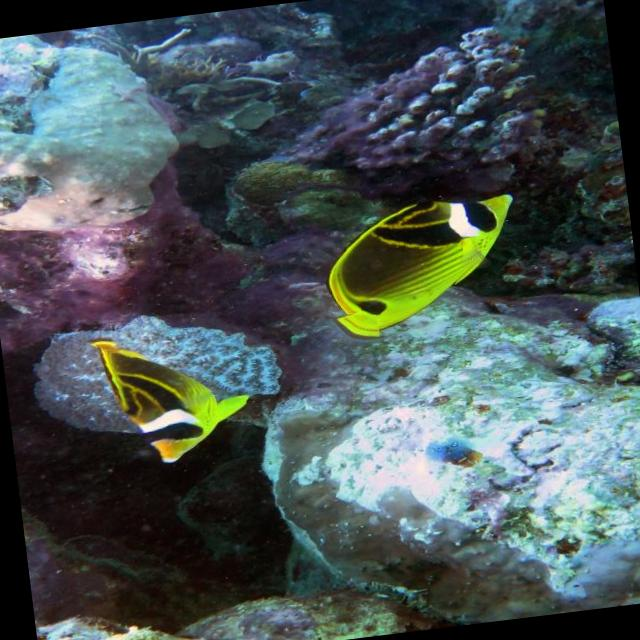ButterflyFish: (314, 189, 532, 341), (98, 322, 250, 466)
